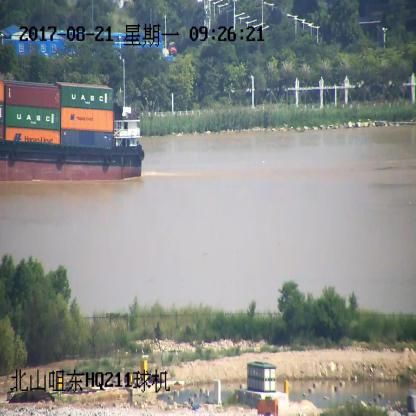Container Ship: (0, 60, 144, 183)
